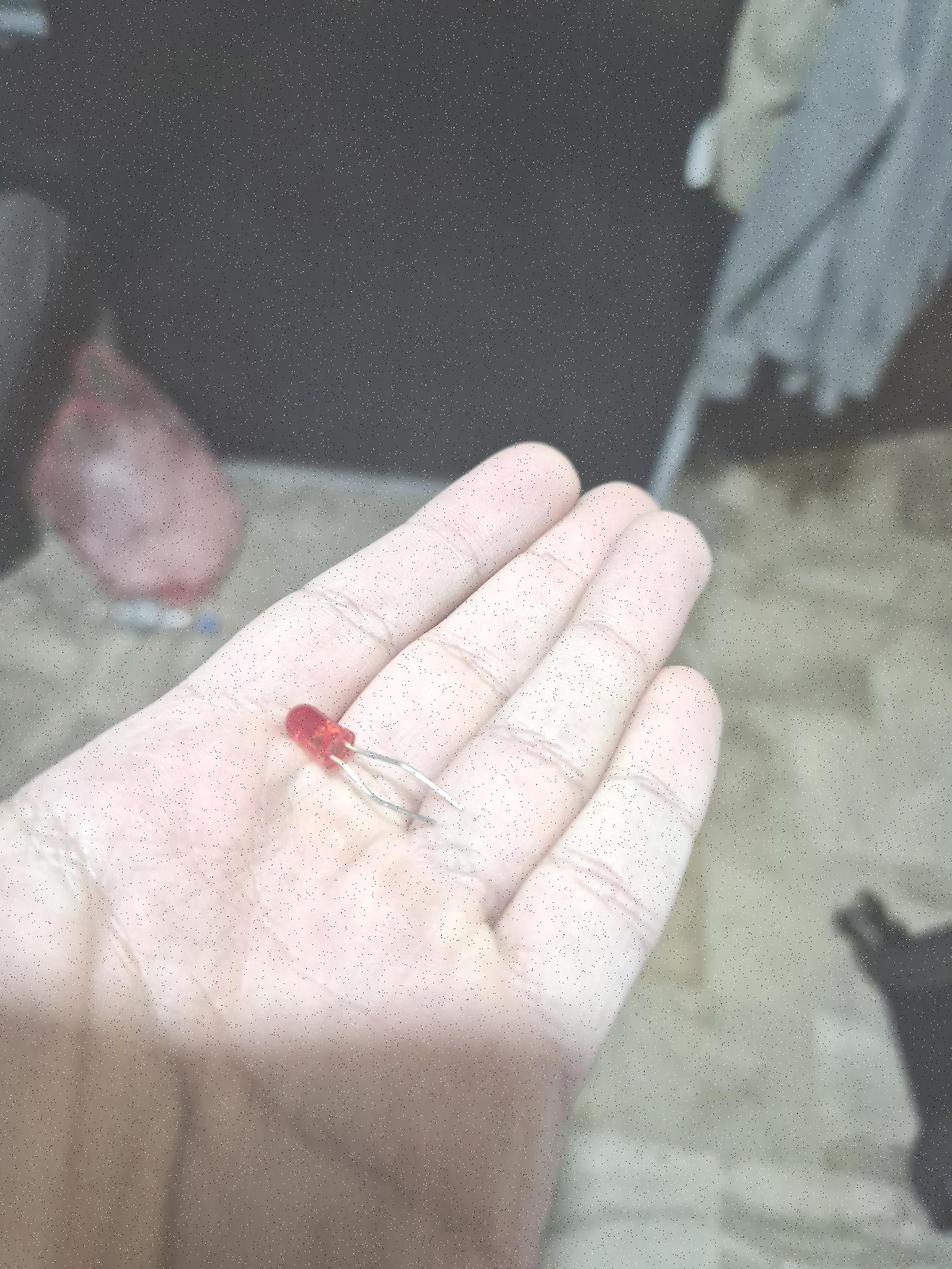led-diode: (286, 704, 464, 824)
